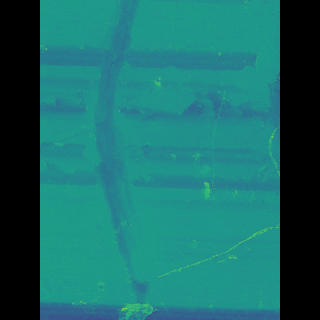Loch: (101, 0, 157, 312)
